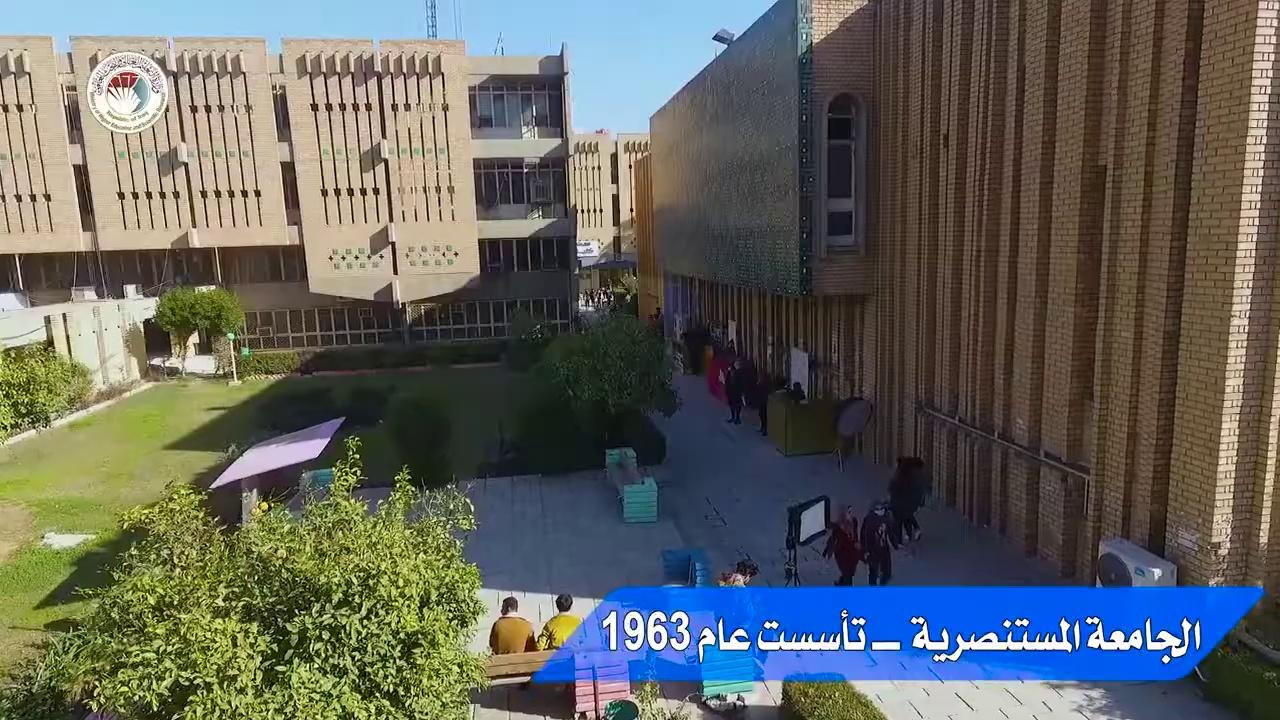person: (859, 498, 900, 585), (488, 596, 537, 654), (536, 593, 583, 651), (821, 519, 861, 585), (789, 381, 806, 404)
tree: (7, 433, 494, 718), (535, 305, 683, 465), (0, 337, 94, 442), (151, 283, 245, 376), (776, 678, 887, 719), (152, 284, 200, 360), (194, 285, 245, 347), (119, 316, 148, 380)
